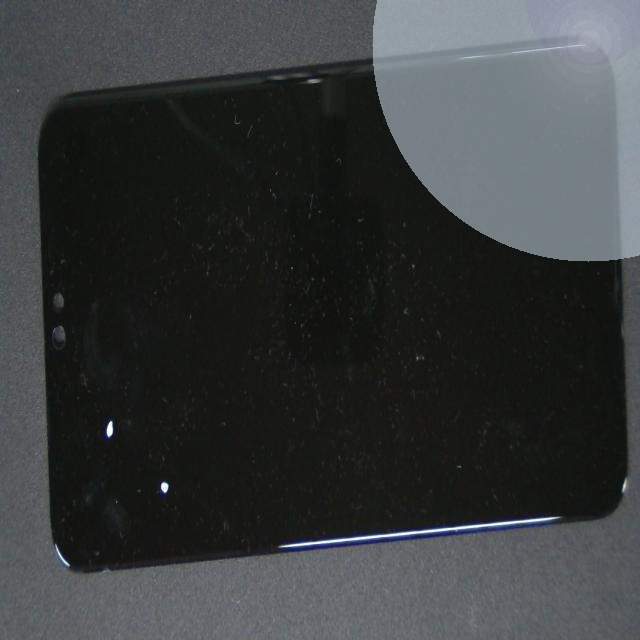stain: (92, 227, 239, 640), (54, 179, 148, 615)
